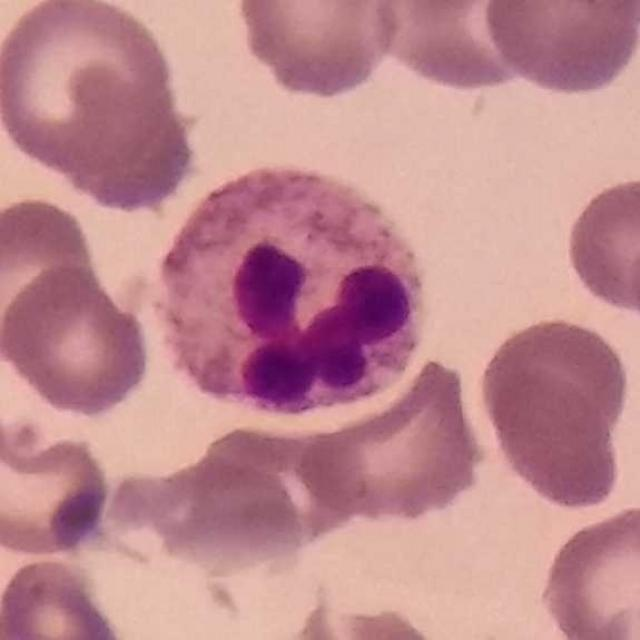Neutrophil: (144, 152, 440, 426)
RBC: (293, 353, 493, 530), (0, 0, 186, 184), (474, 310, 635, 501), (180, 421, 363, 560), (0, 260, 155, 421), (138, 450, 314, 578), (231, 0, 406, 102), (0, 191, 102, 361), (368, 0, 548, 95), (0, 417, 115, 560), (479, 0, 640, 99), (535, 500, 640, 640), (0, 552, 135, 640), (560, 172, 640, 320), (286, 597, 454, 640)
